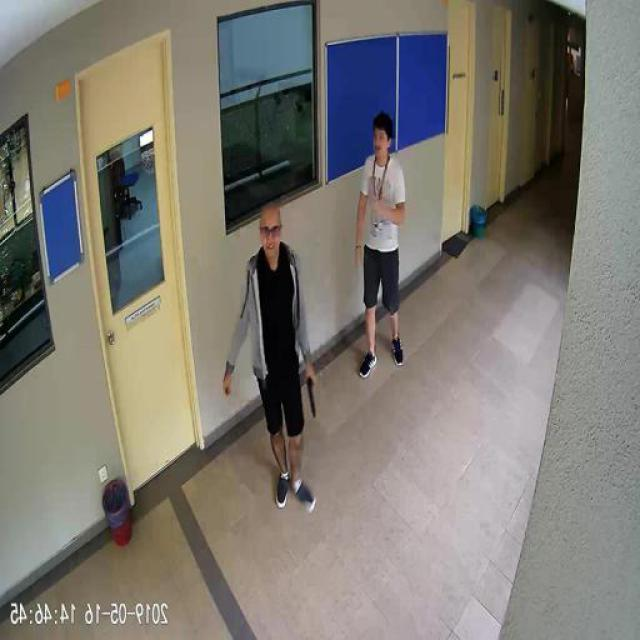weapon: (302, 366, 319, 420)
